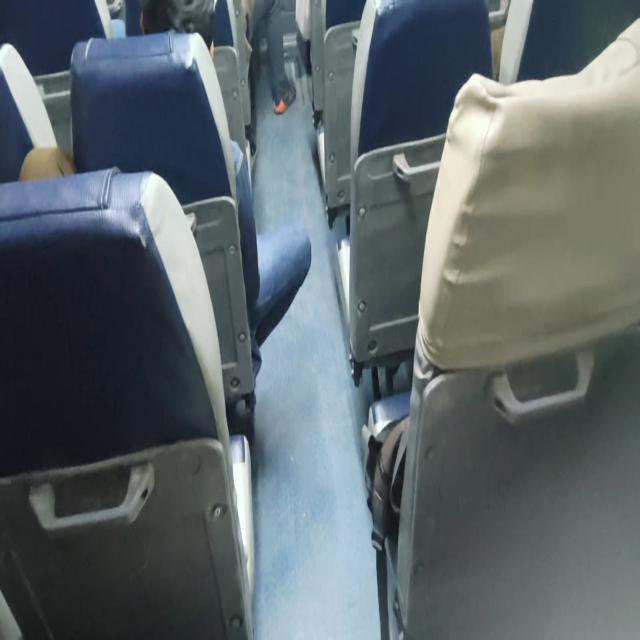person: (368, 16, 639, 637), (19, 2, 311, 438), (138, 1, 261, 310), (246, 0, 296, 115), (18, 145, 76, 181)
